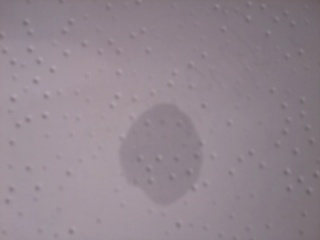Water_detected: (126, 110, 189, 187)
